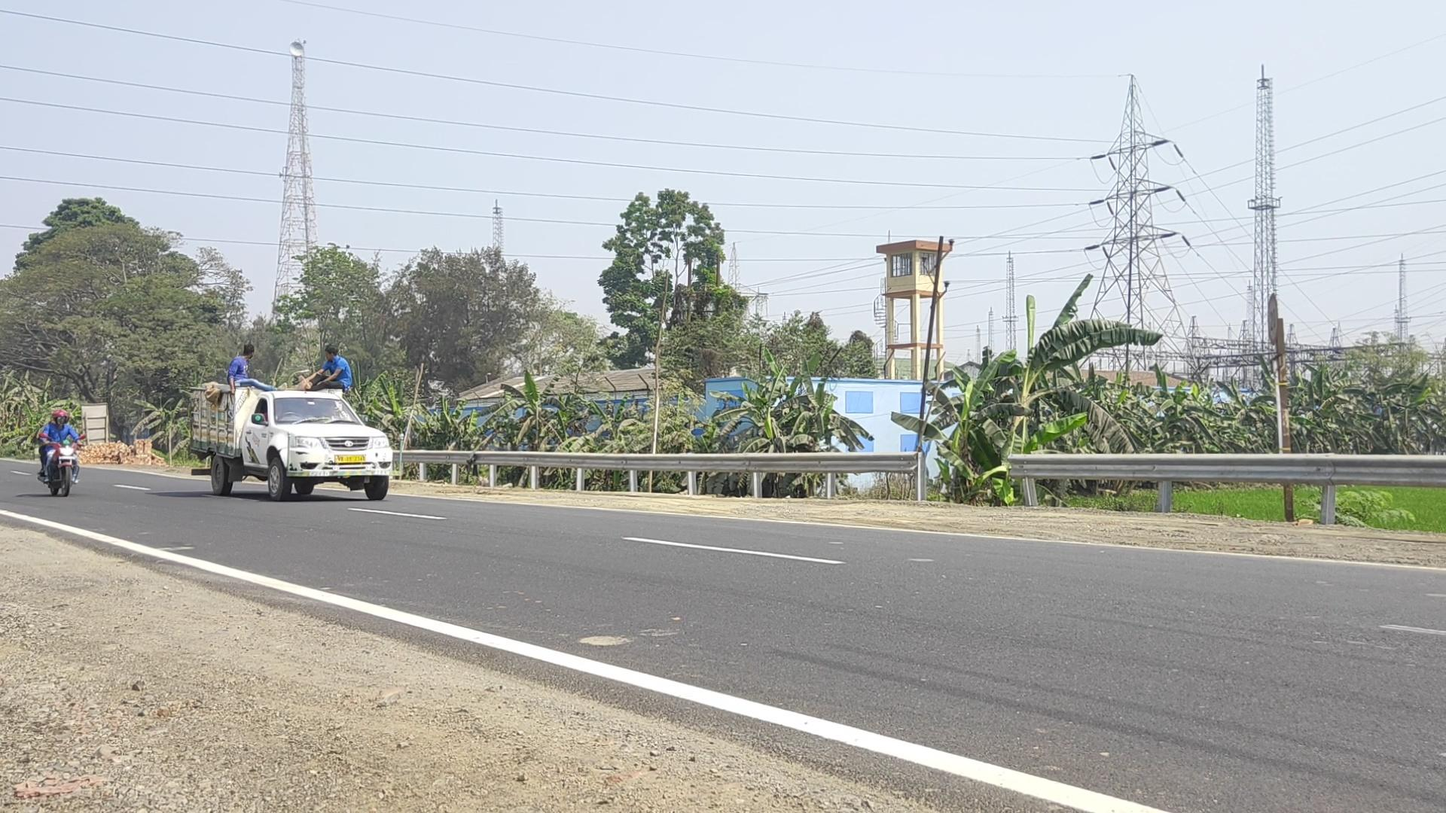bike: (38, 409, 87, 497)
van: (190, 343, 393, 501)
